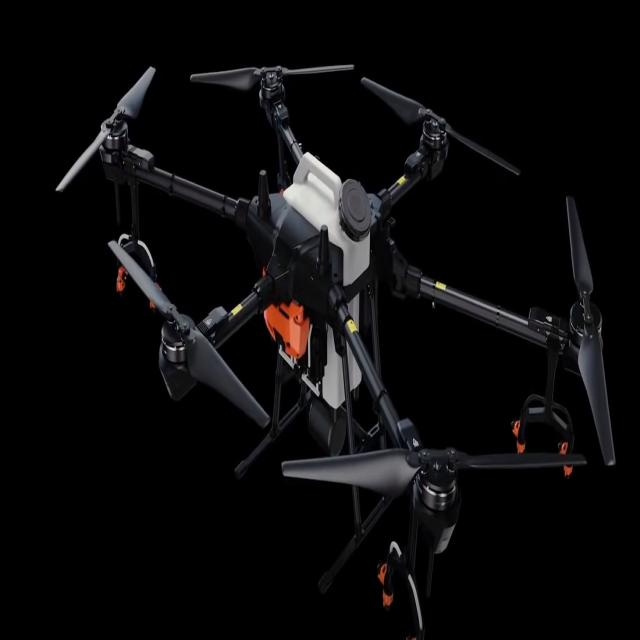drone: (44, 40, 626, 633)
